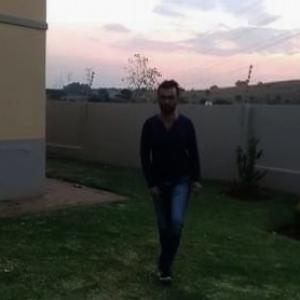follow: (136, 73, 201, 284)
